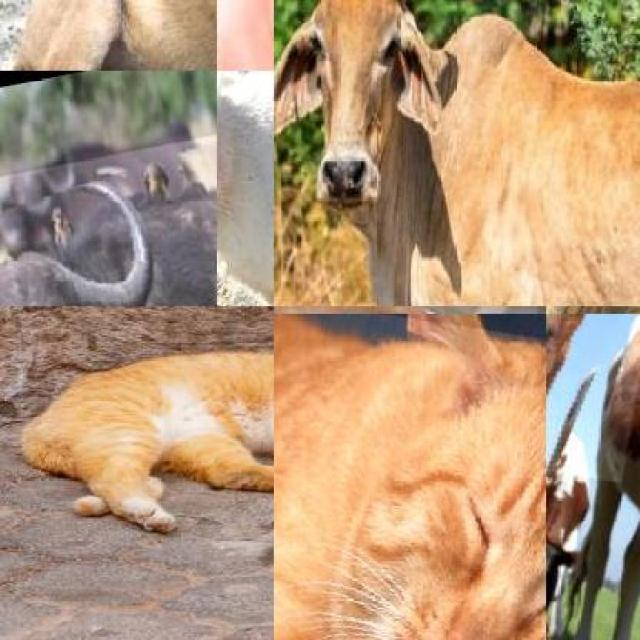buffalo: (0, 99, 217, 306)
cat: (274, 314, 546, 640), (1, 306, 274, 523)
cow: (274, 0, 640, 306), (546, 314, 640, 481)
injured: (217, 71, 260, 169)
